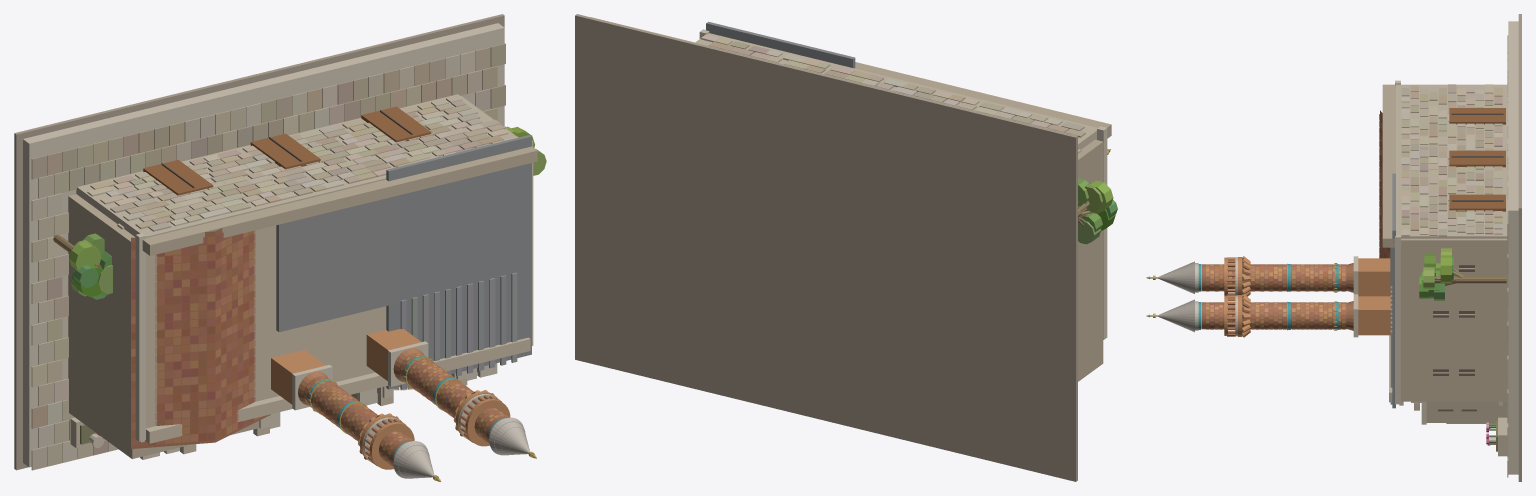
File: cifte_minareli.glb
3 renders of one model, left to right at view 1: azimuth 30°, elevation 25°; view 2: azimuth 150°, elevation 25°; view 3: azimuth 270°, elevation 25°, orthographic. The views are drawn at different scales.
Parts seen in each view (by area): view 1: Sivas_Cifte_Minareli_Tarihi_Yapi_3B; view 2: Sivas_Cifte_Minareli_Tarihi_Yapi_3B; view 3: Sivas_Cifte_Minareli_Tarihi_Yapi_3B.
Part boxes in pixels (x1,y1,x2,y2): Sivas_Cifte_Minareli_Tarihi_Yapi_3B: (14,14,546,481); Sivas_Cifte_Minareli_Tarihi_Yapi_3B: (575,14,1117,481); Sivas_Cifte_Minareli_Tarihi_Yapi_3B: (1146,14,1521,481).
Bounding box in the file's own units: 15 × 9.85 × 12.26.
